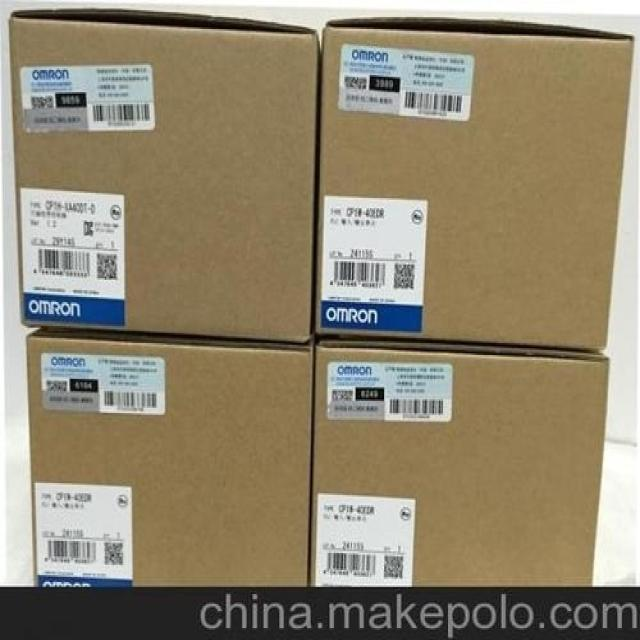box: (315, 17, 634, 350), (8, 9, 319, 345), (310, 340, 611, 587), (27, 329, 312, 587)
